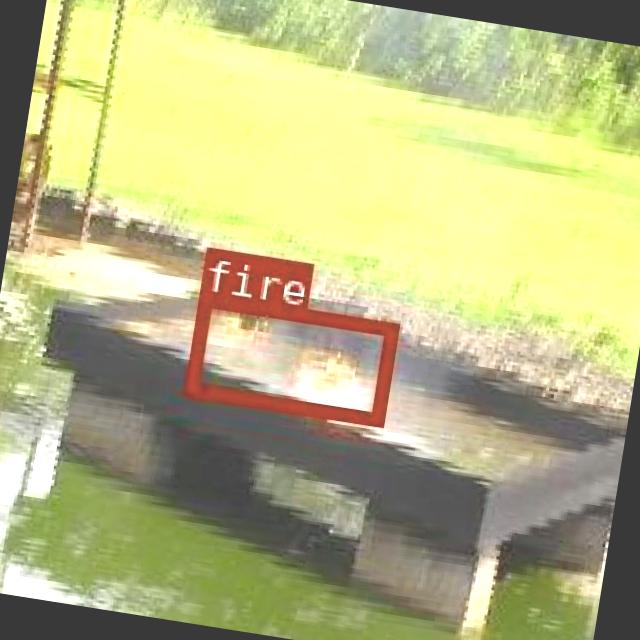fire: (182, 291, 396, 424)
